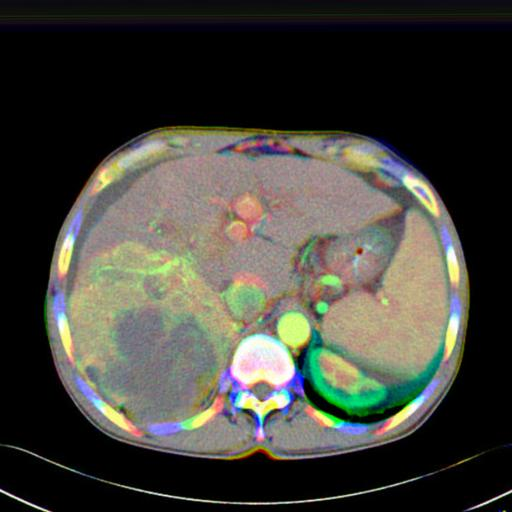Tumor: (106, 307, 216, 422)
